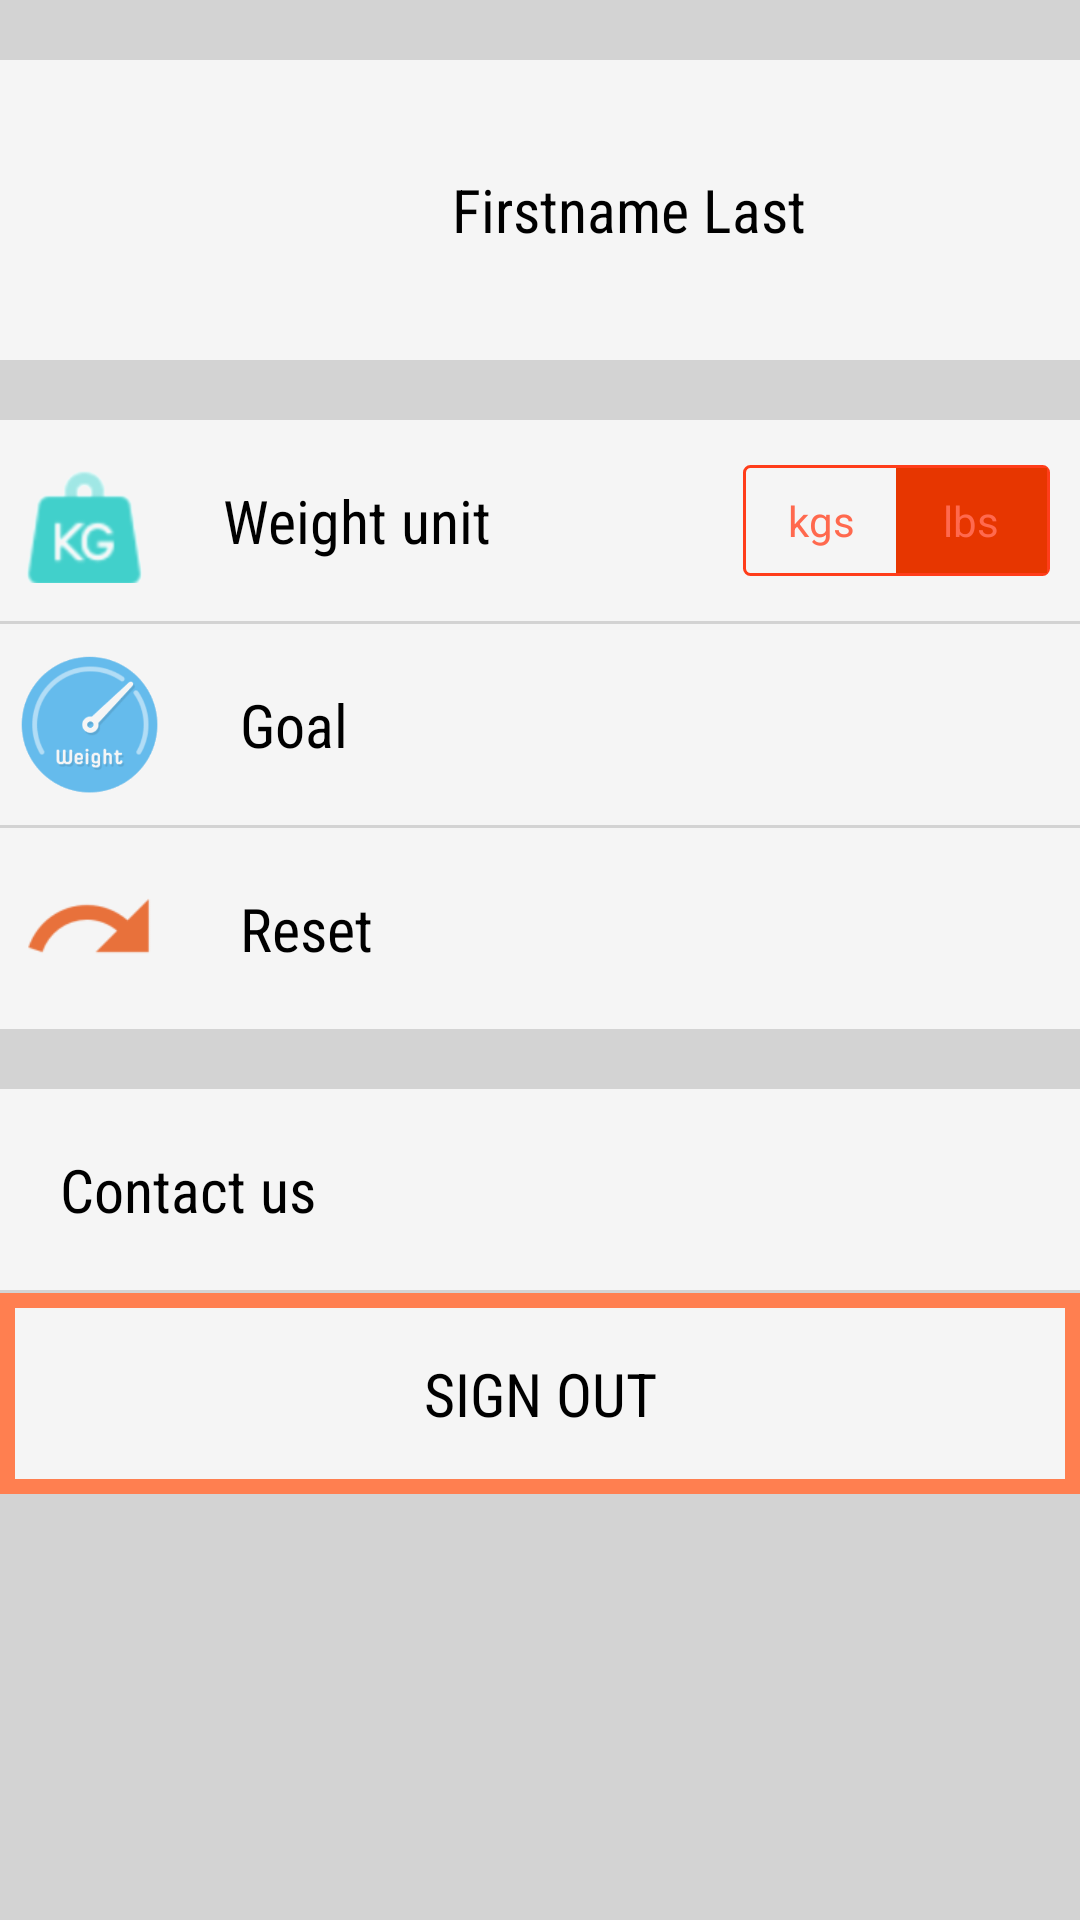

Icon bounding boxes for this 1080*1920 phone screenshot, format (x1, y1, x2, y2):
scale: (21, 657, 158, 793)
weights: (27, 472, 141, 583)
